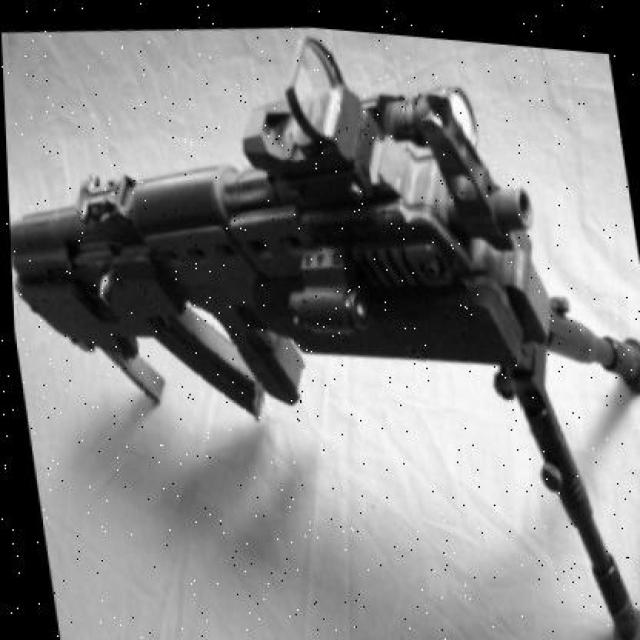weapon: (12, 36, 639, 640)
